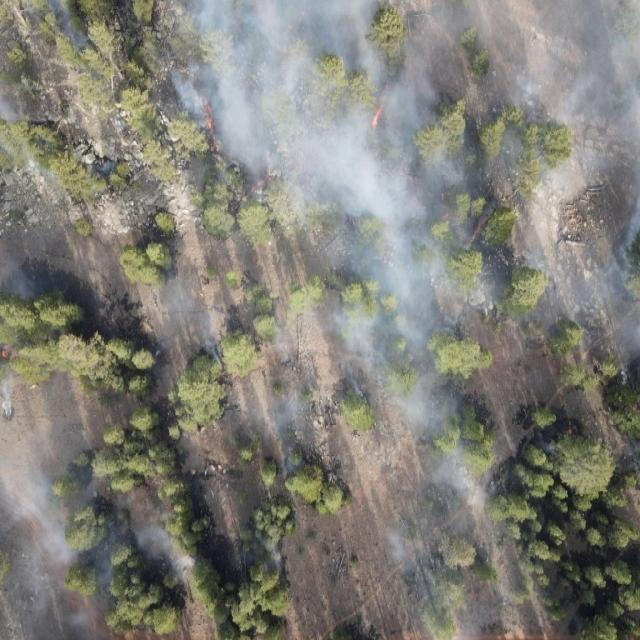fire: (226, 176, 275, 212), (372, 79, 396, 131), (201, 97, 222, 154), (468, 216, 484, 246), (440, 189, 452, 221), (0, 342, 18, 362), (567, 426, 575, 436)
smoke: (154, 0, 640, 178), (230, 172, 640, 352), (346, 349, 521, 640), (0, 452, 95, 640), (96, 502, 196, 606), (156, 287, 226, 373), (244, 392, 314, 467), (32, 0, 94, 55), (0, 82, 34, 156), (0, 254, 40, 306), (252, 543, 286, 578)
